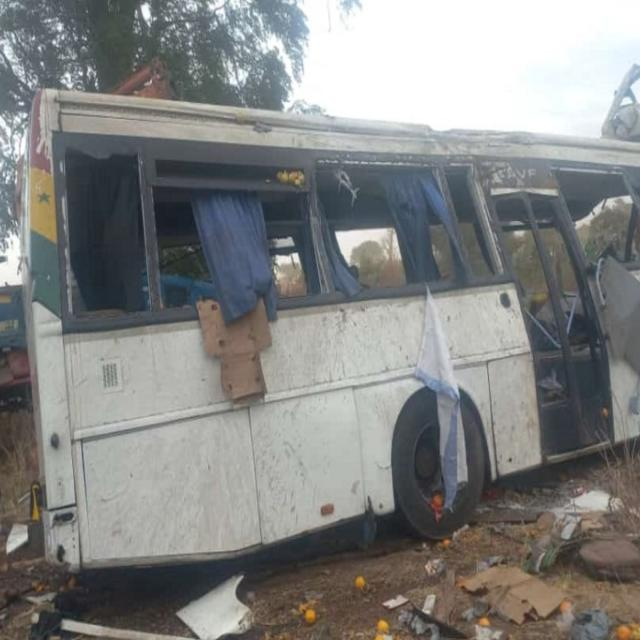accident: (21, 92, 640, 569)
